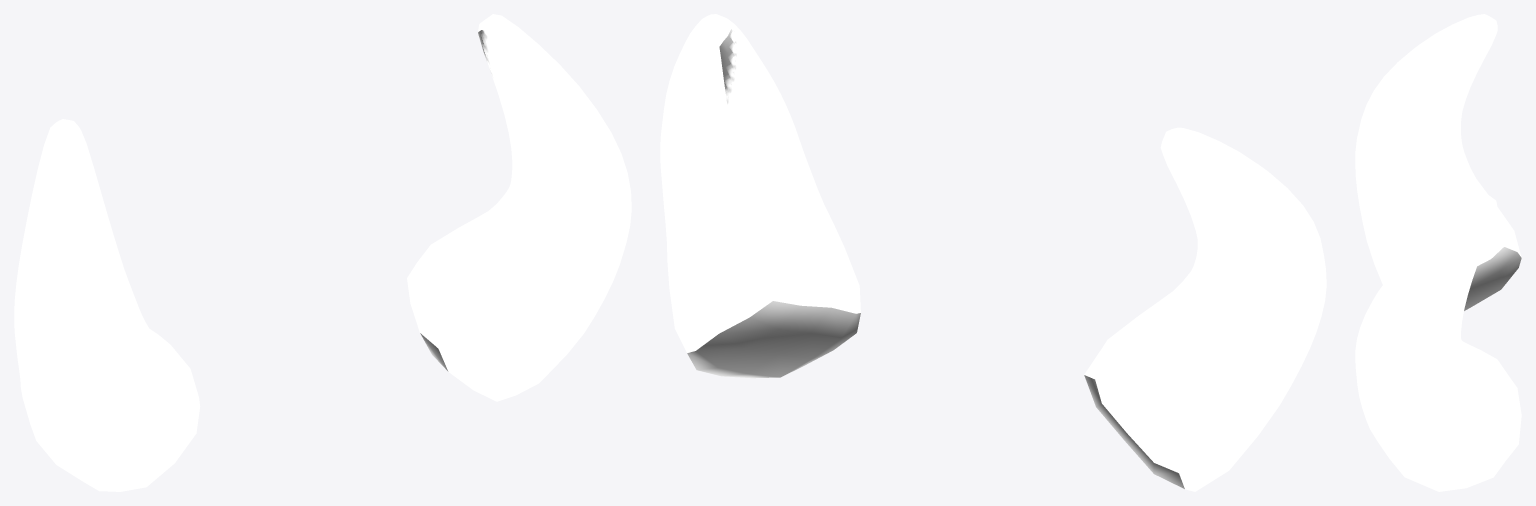
The model's file is HelmetDesign5OnlyBullHorns.fbx.
3 renders of one model, left to right at view 1: azimuth 30°, elevation 25°; view 2: azimuth 150°, elevation 25°; view 3: azimuth 270°, elevation 25°, orthographic. The views are drawn at different scales.
Parts seen in each view (by area): view 1: group8_polySurface45; view 2: group8_polySurface45; view 3: group8_polySurface45.
Boxes of the visible parts, box(x1,y1,x2,y2) form: group8_polySurface45: box(14, 14, 631, 491); group8_polySurface45: box(660, 14, 1326, 491); group8_polySurface45: box(1355, 14, 1521, 491).
Bounding box in the file's own units: 3.85 × 2.18 × 1.09.
